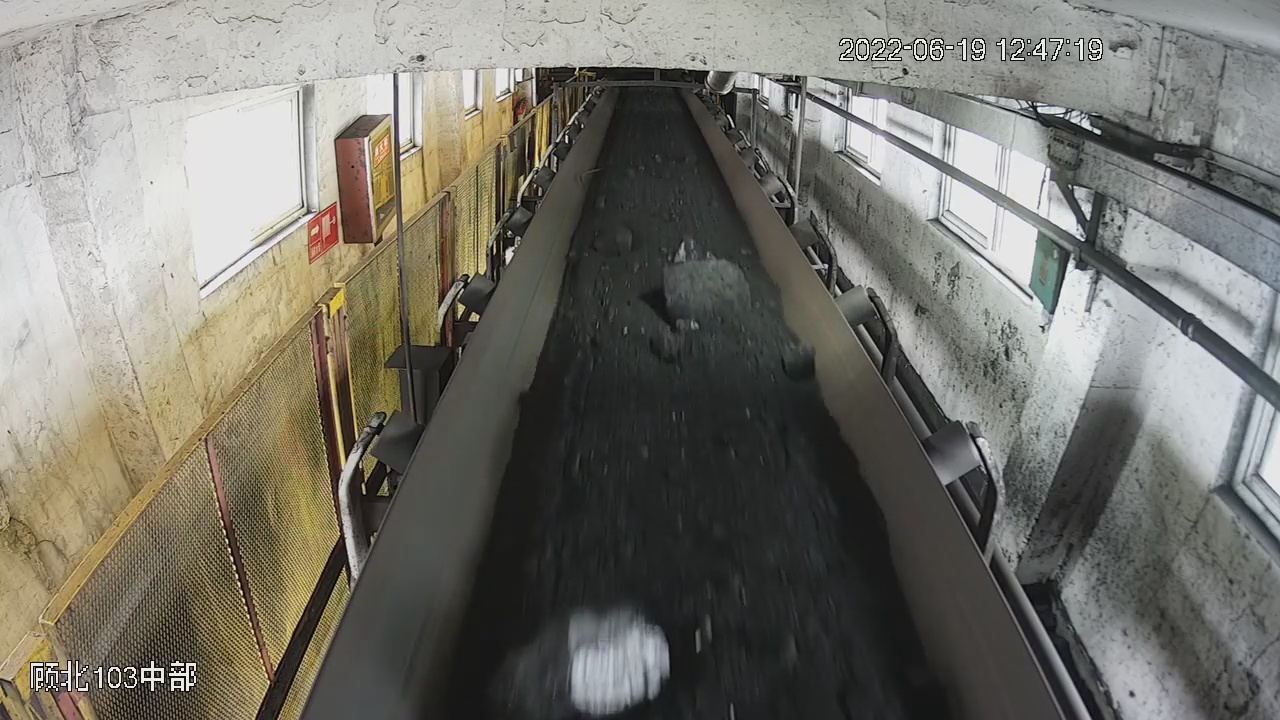gangue: (496, 607, 669, 717), (664, 238, 752, 323), (780, 345, 813, 380), (594, 224, 632, 252), (647, 328, 680, 359)
